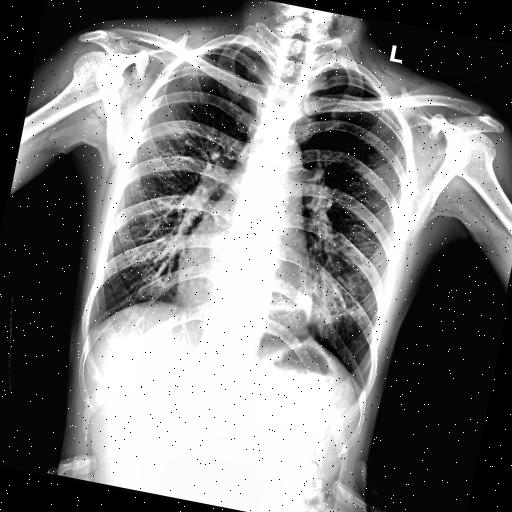10- Pleural effusion: (352, 380, 369, 403), (81, 320, 97, 339)
11- Pleural thickening: (352, 380, 369, 403), (81, 320, 97, 339)
13- Pulmonary fibrosis: (291, 266, 356, 337)
6- Infiltration: (291, 266, 356, 337), (291, 263, 352, 337)
7- Lung Opacity: (289, 264, 364, 338), (291, 263, 352, 337)
